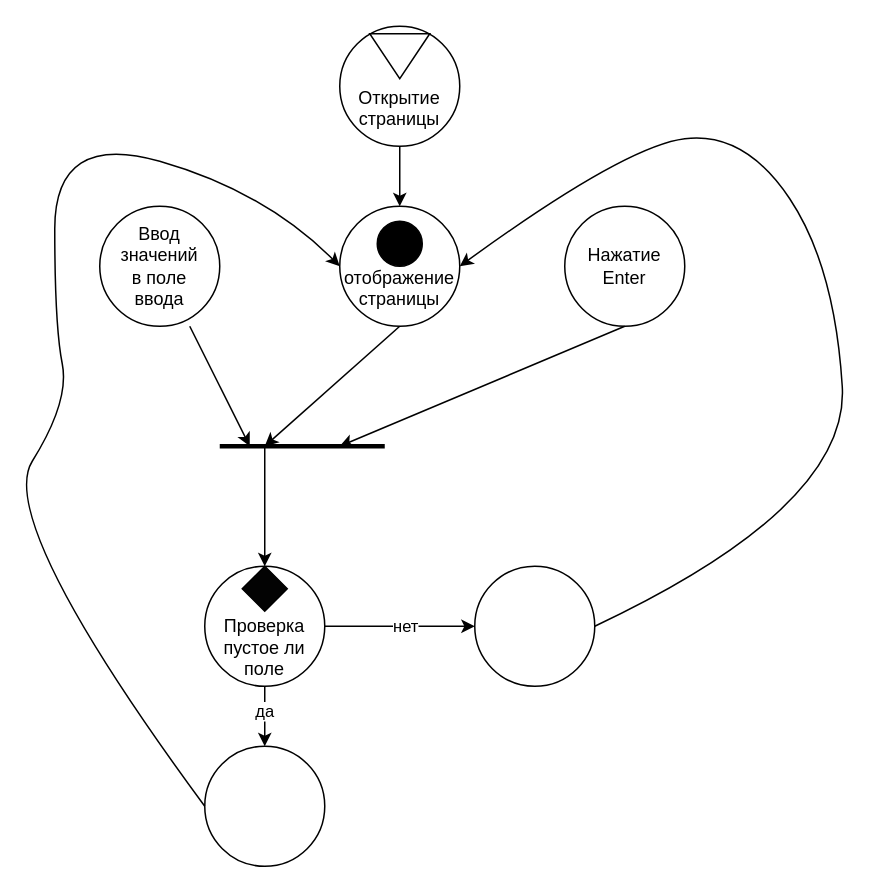
The diagram is 869 pixels wide and 893 high, and some of its shapes have lost their labels. The shapes that lost their labels are listed below. From the top down, each one's centre as x and y in pixels, then its label:
At (x=534, y=625): "Ввод введенных значений".
At (x=264, y=805): "Заполнение поля нулем или прочерком".
